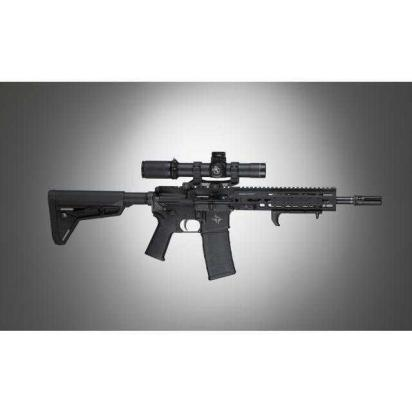Gun: (52, 154, 384, 278)
